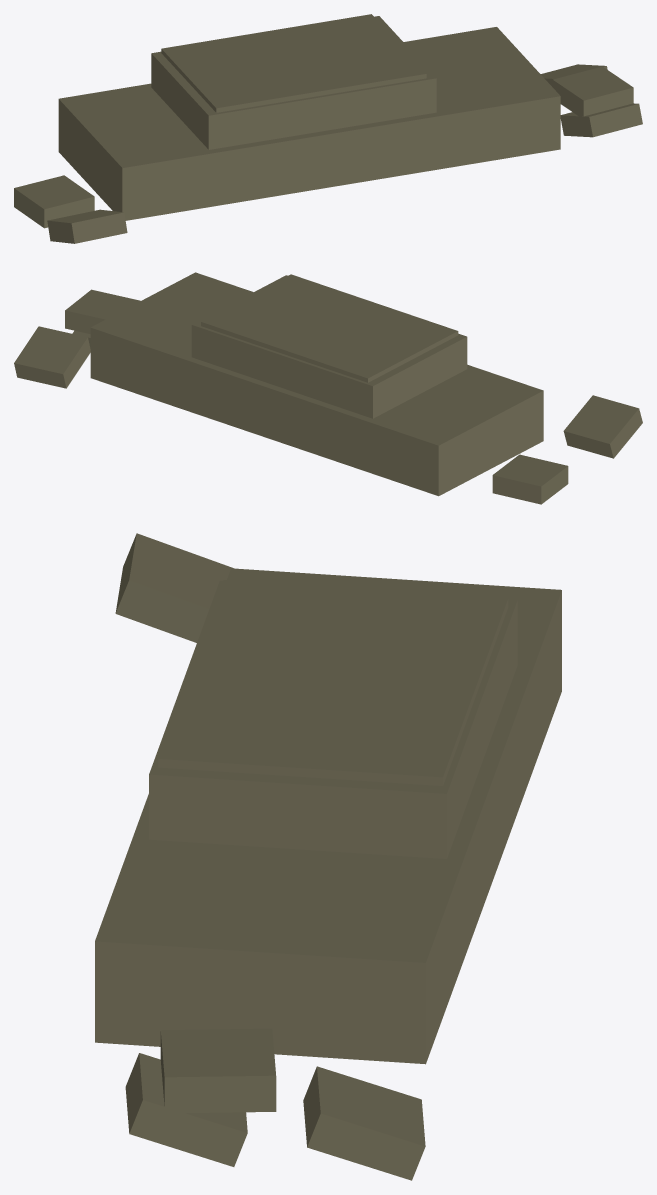
The model's file is SM_BarricadaCivil_v3_Furgoneta_e1_Danado_LOD1.fbx.
3 renders of one model, top to bottom at view 1: azimuth 30°, elevation 25°; view 2: azimuth 150°, elevation 25°; view 3: azimuth 270°, elevation 25°, orthographic. The views are drawn at different scales.
Visible parts, largest first — view 1: SM_barricada_civil_v13_LOD1; view 2: SM_barricada_civil_v13_LOD1; view 3: SM_barricada_civil_v13_LOD1.
Part boxes in pixels (<box>): SM_barricada_civil_v13_LOD1: <box>14,14,642,243</box>; SM_barricada_civil_v13_LOD1: <box>14,272,642,504</box>; SM_barricada_civil_v13_LOD1: <box>95,533,561,1180</box>.
Bounding box in the file's own units: 8.04 × 1.5 × 2.93.
